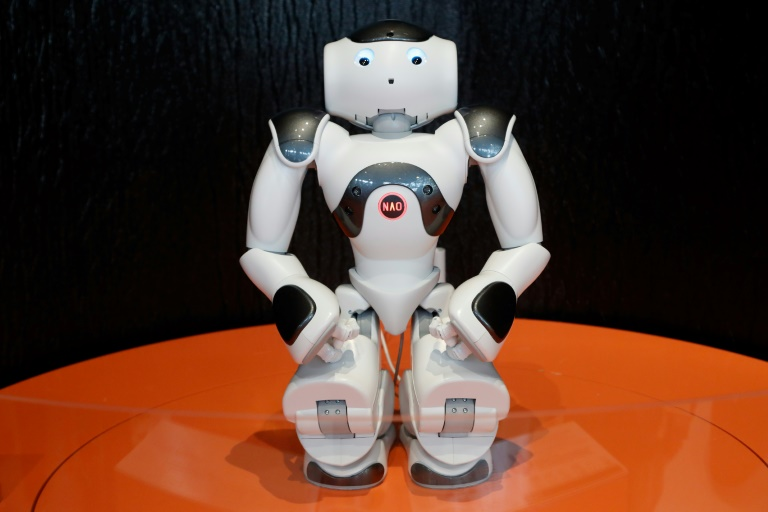nao: (225, 22, 576, 512)
